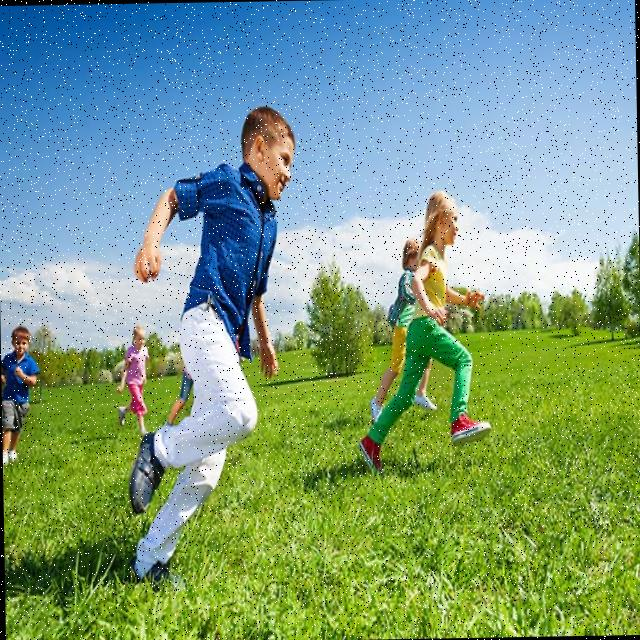Person: (120, 104, 302, 582), (353, 188, 492, 468), (367, 240, 437, 422), (1, 325, 38, 467), (117, 325, 150, 435)
